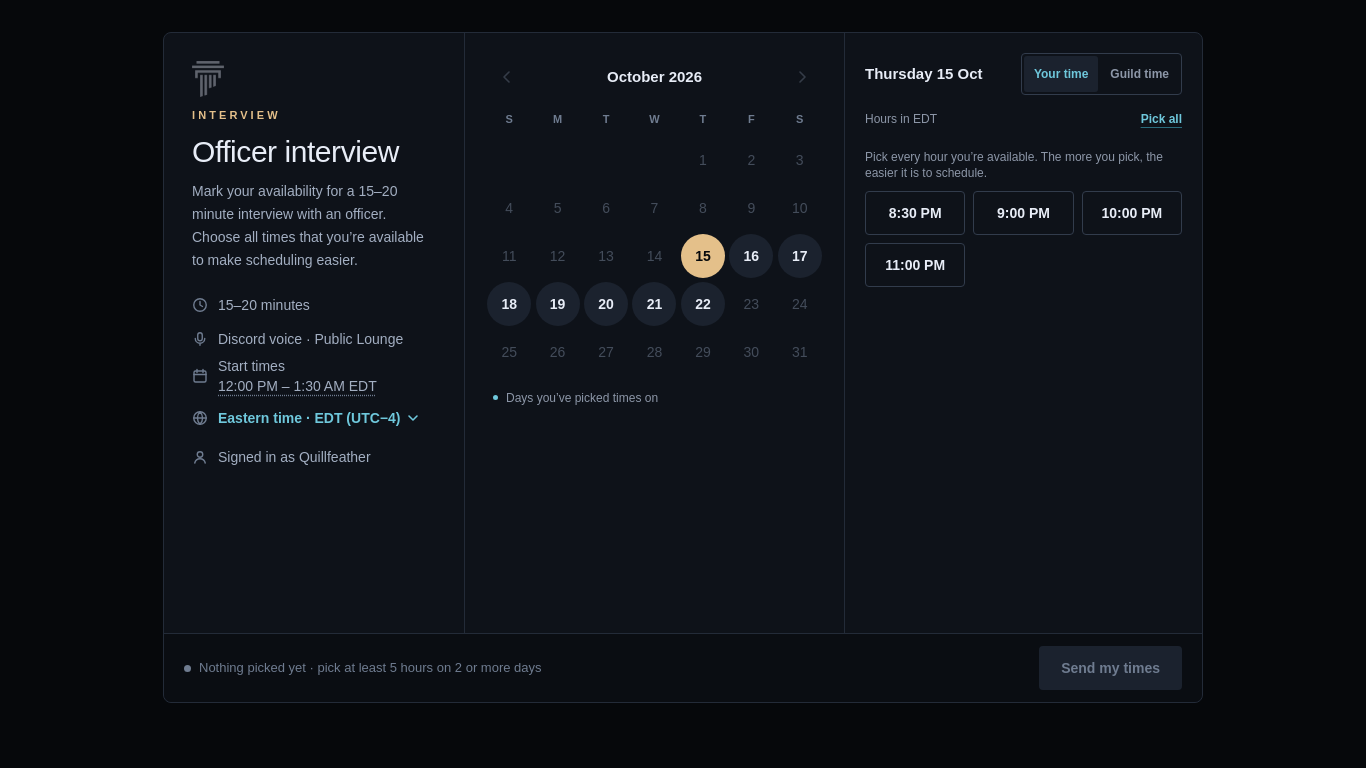
Test: InterviewPicker › holds both half-hour starts of a picked hour, and only one at the window edge
Click the button "8:30 PM": [915, 213] box [865,191,965,235]
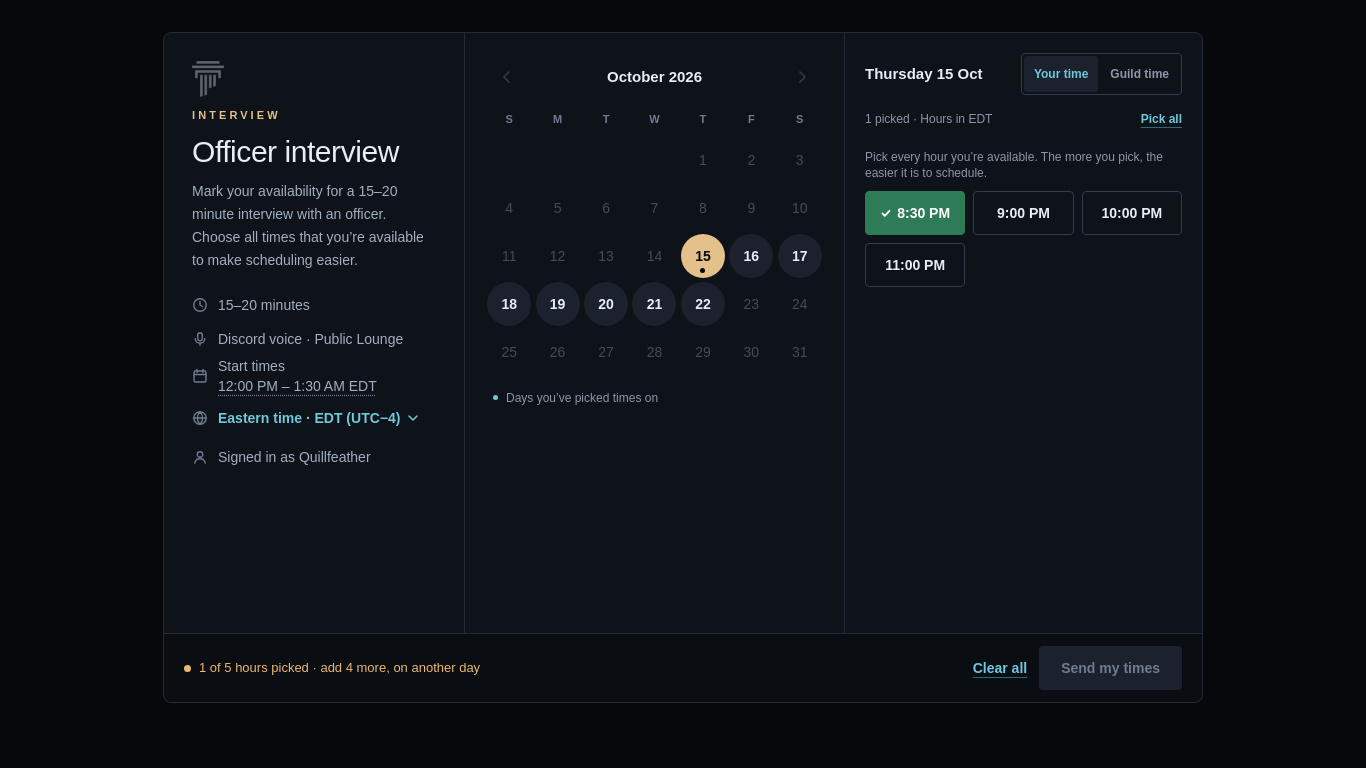
Click the button "9:00 PM": [1023, 213] box [973,191,1074,235]
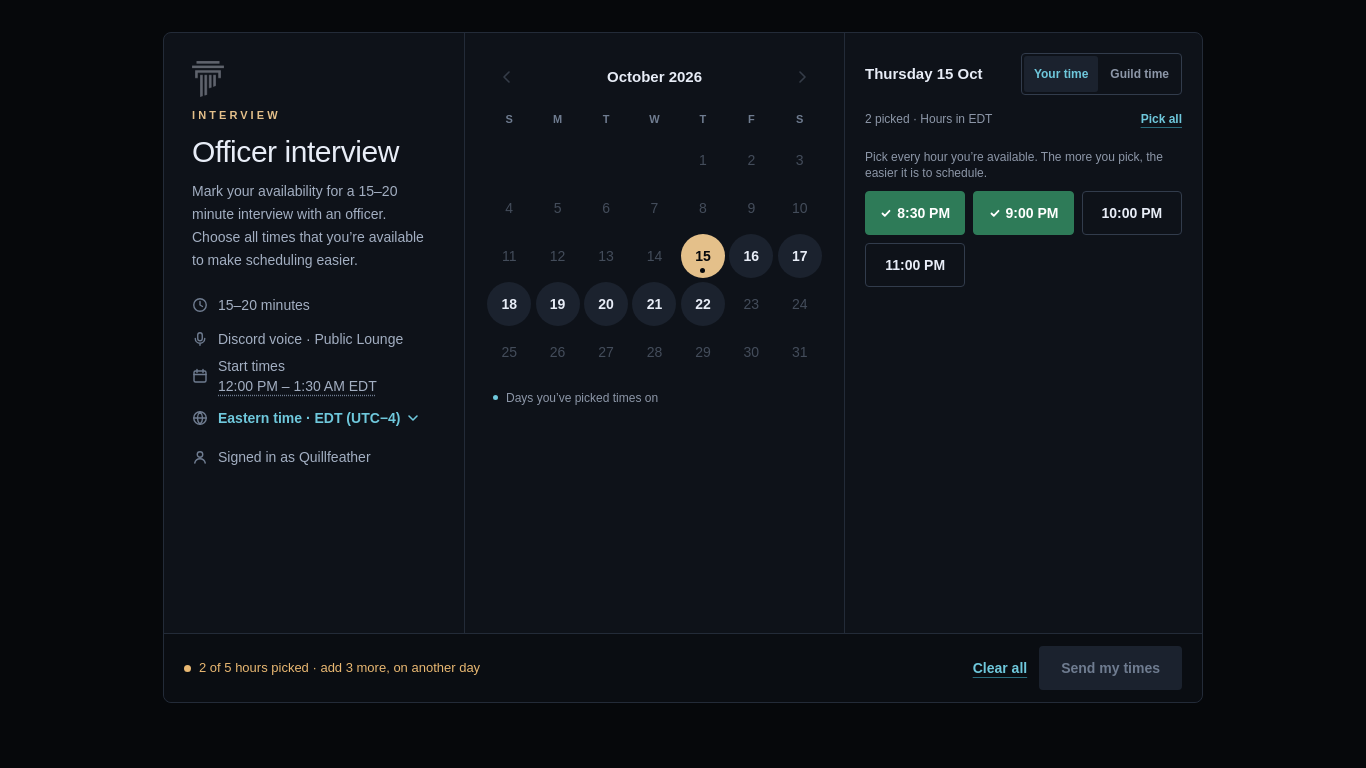
Expected: the message "2 of 5 hours picked · add 3 more, on another day" is shown, [199,658,480,678]
